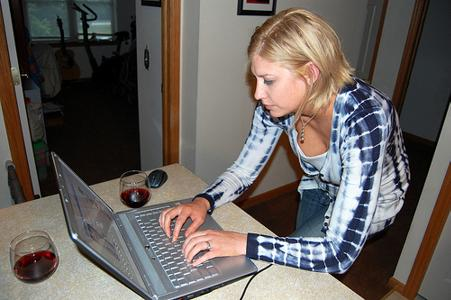person: (159, 8, 412, 274)
